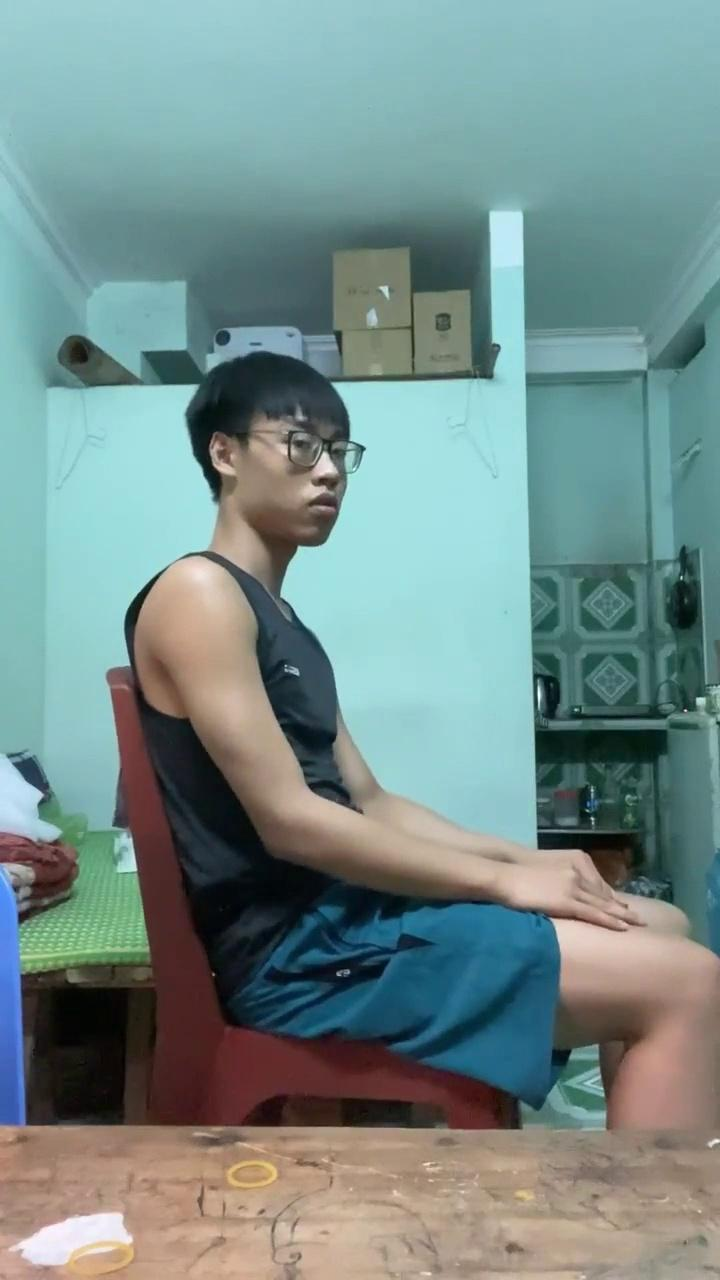GoodPosture: (155, 355, 719, 1130)
